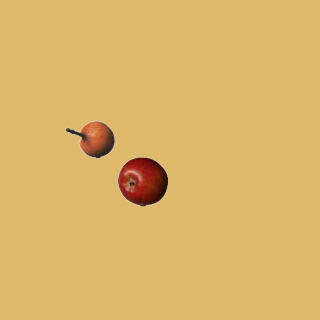Apple Braeburn: (117, 156, 167, 206)
Granadilla: (64, 114, 114, 164)
